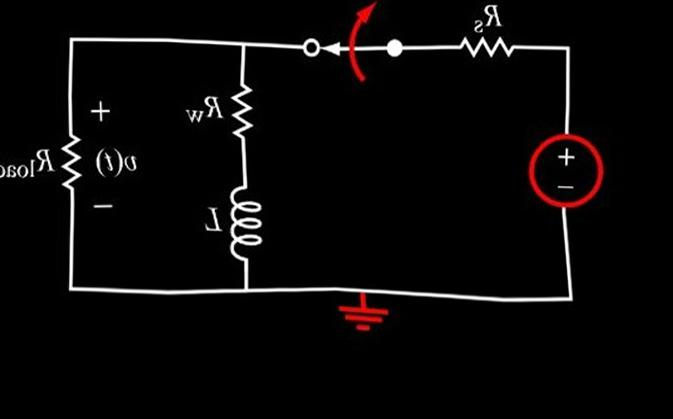Battery: (508, 127, 616, 223)
